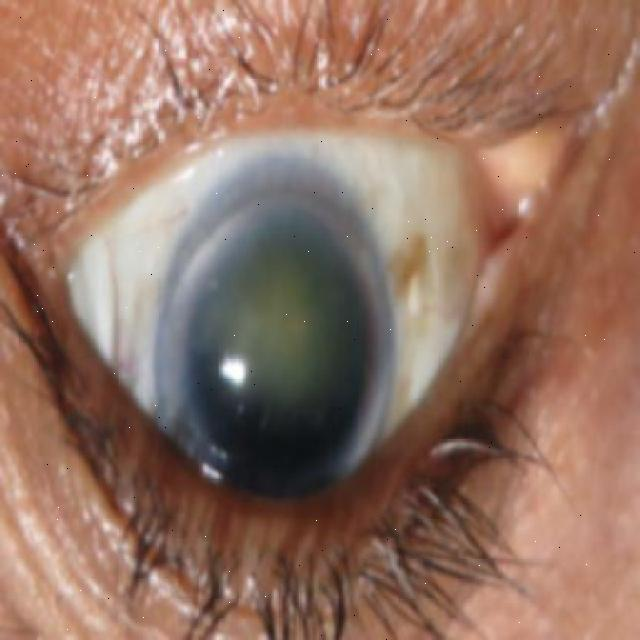Cataract: (158, 190, 400, 520)
